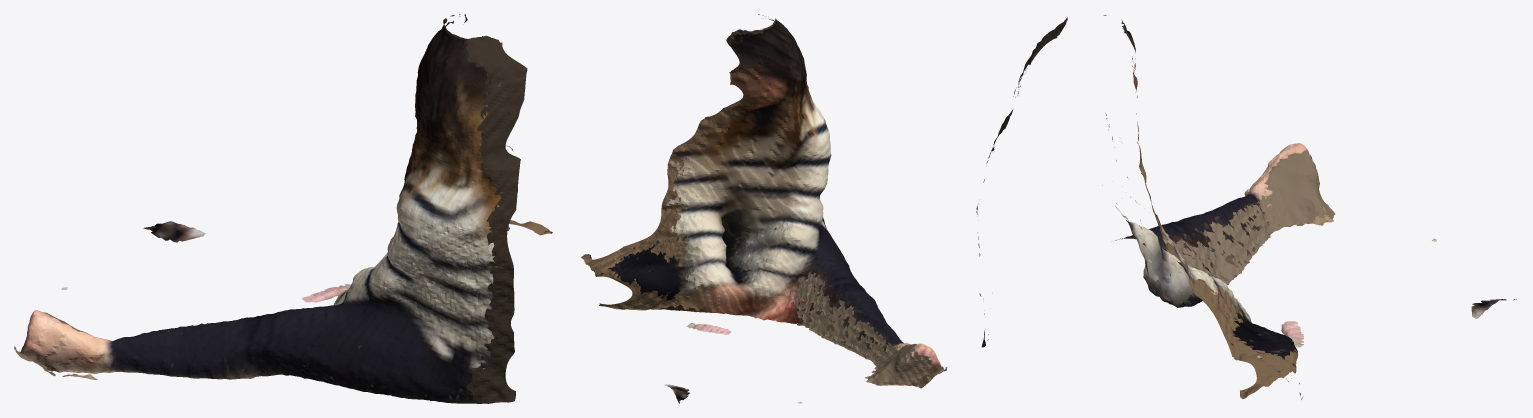
3 renders of one model, left to right at view 1: azimuth 30°, elevation 25°; view 2: azimuth 150°, elevation 25°; view 3: azimuth 270°, elevation 25°, orthographic. The views are drawn at different scales.
Bounding box in the file's own units: 1.2 × 0.7368 × 1.1.
Materials: 1 (1 with a texture image).
